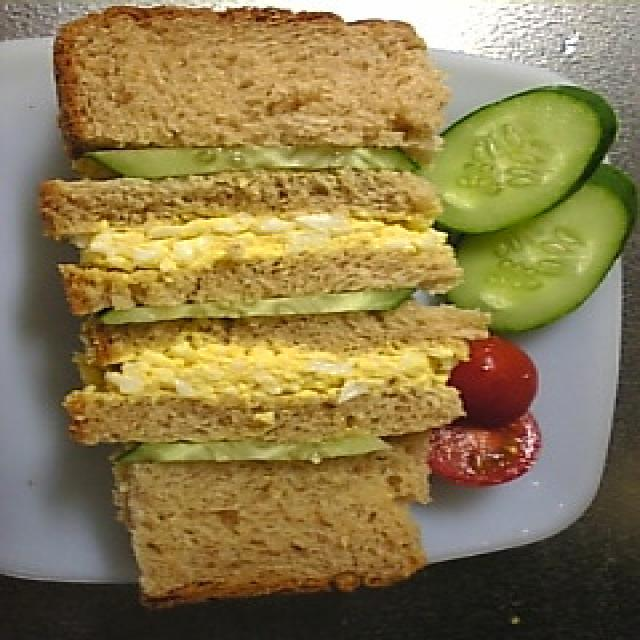三明治: (37, 0, 459, 592)
